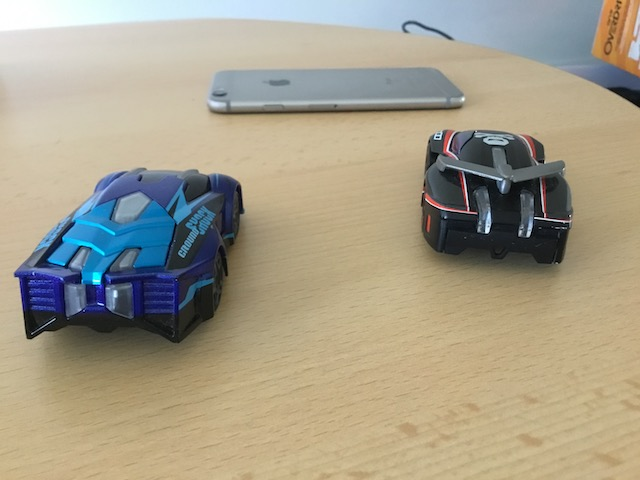car-blue: (10, 164, 247, 348)
car-red: (419, 125, 575, 272)
phone: (205, 64, 469, 116)
